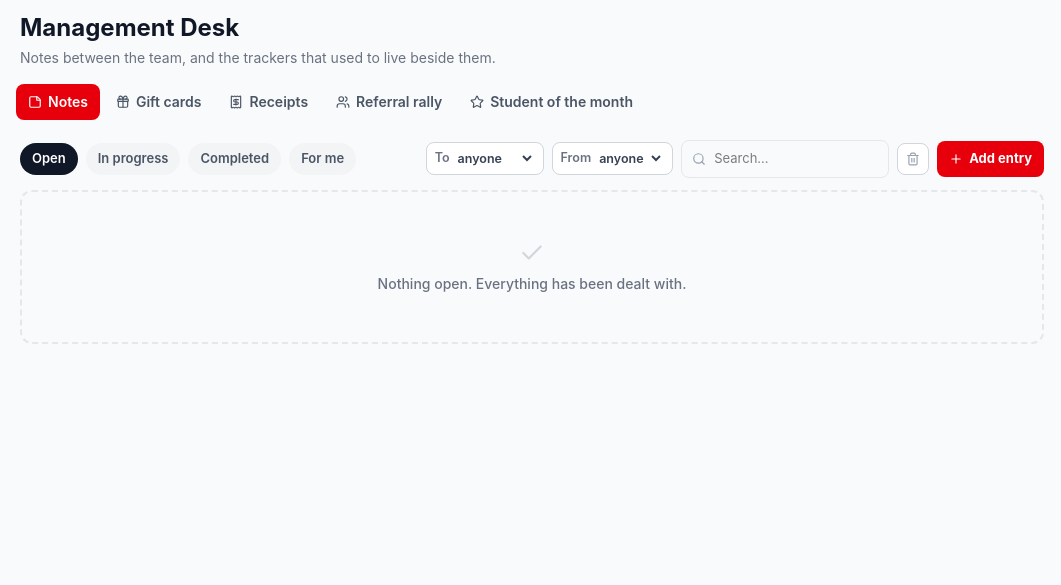
writing one › flags a code with no Ratio account rather than dropping it
Click the button "Add entry" at {"x": 991, "y": 159}, box [937,141,1044,176]
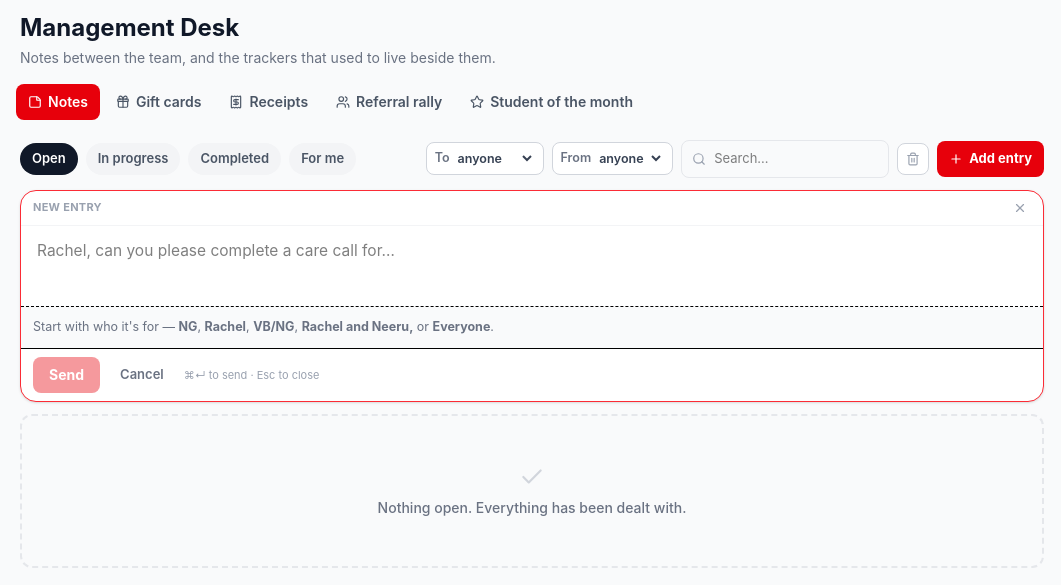
Type "MY, new AFU family enrolled" into the text box with placeholder "Rachel, can you please complete a care call for…" at {"x": 532, "y": 263}, box [21,226,1043,300]
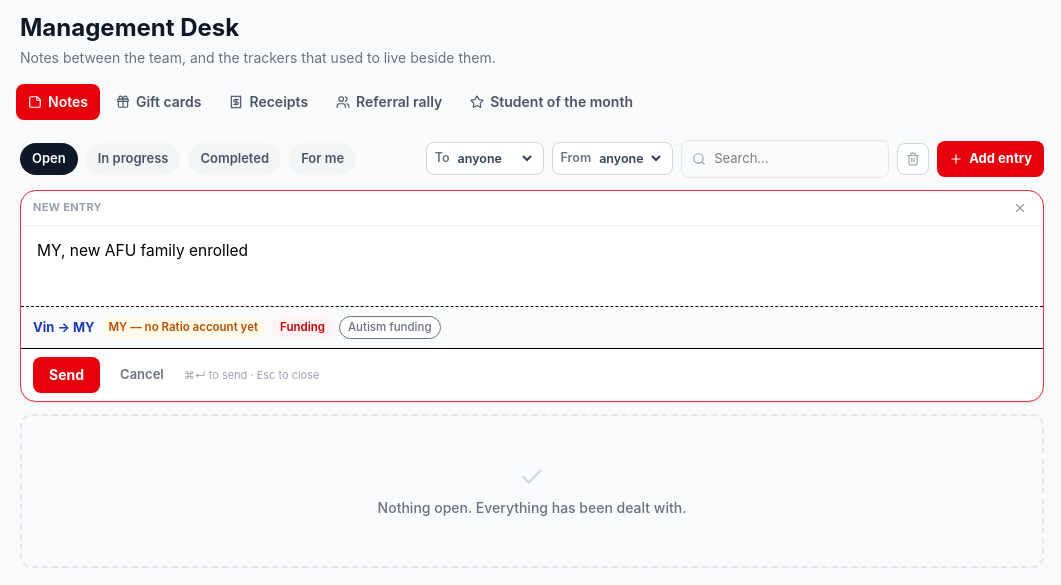
Result: the text "MY — no Ratio account yet" is shown at [100,317,266,338]
Result: the button "Send" is enabled at [33,357,100,393]
